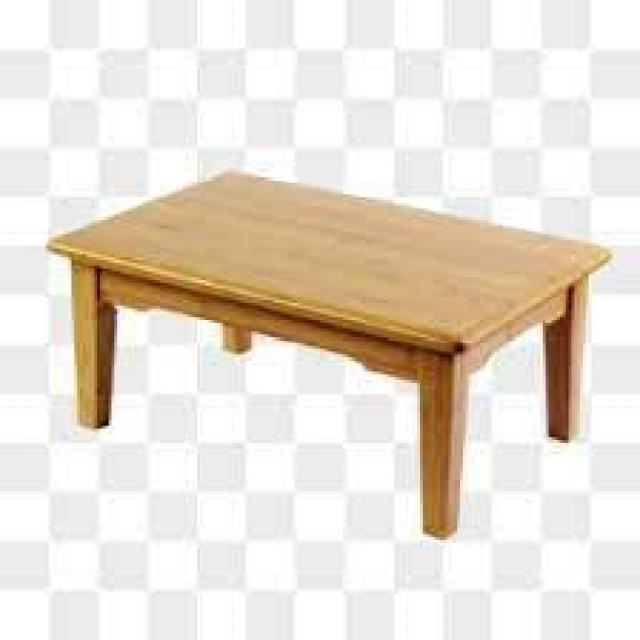table: (20, 59, 606, 564)
